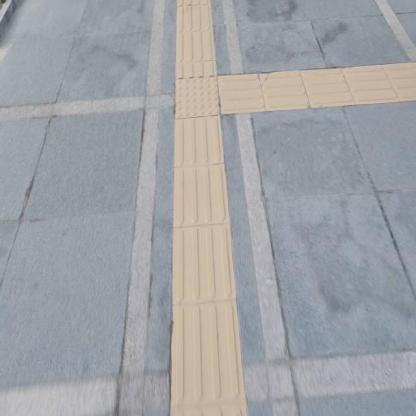podotacti: (167, 122, 250, 415), (222, 57, 415, 119), (156, 46, 244, 147), (170, 0, 218, 71)
